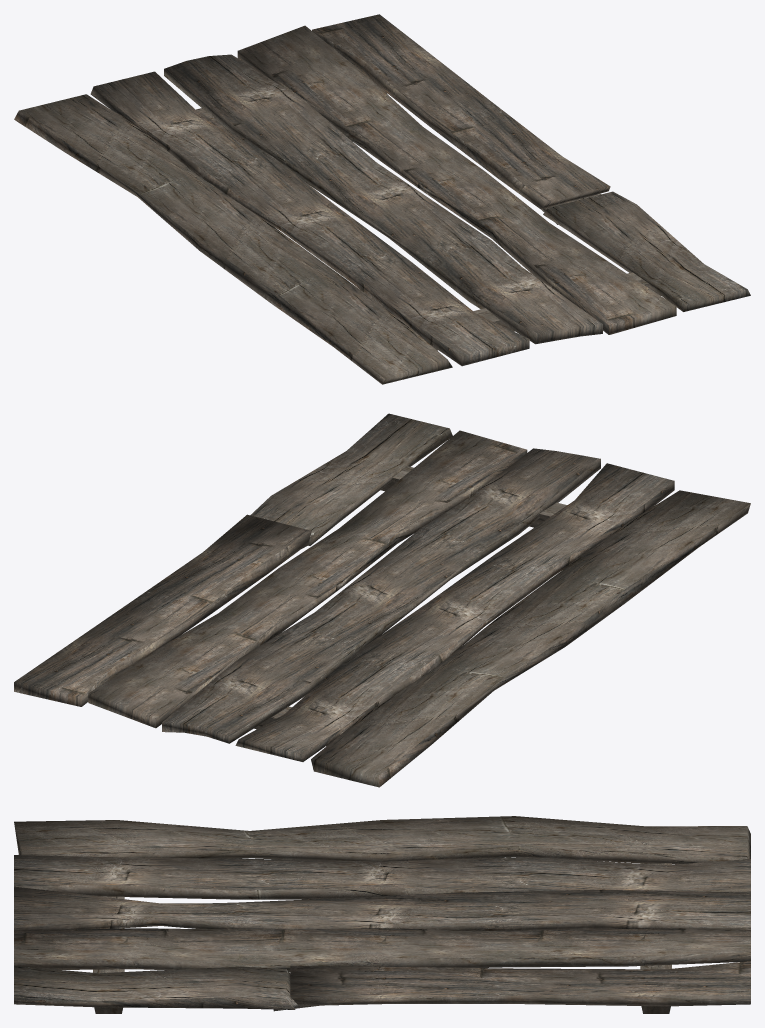
File: bar-table.glb
3 renders of one model, top to bottom at view 1: azimuth 30°, elevation 25°; view 2: azimuth 150°, elevation 25°; view 3: azimuth 270°, elevation 25°, orthographic.
Visible parts, largest first — view 1: table; view 2: table; view 3: table.
Boxes of the visible parts, left/top/right/bottom form: table: left=14, top=14, right=750, bottom=384; table: left=14, top=413, right=750, bottom=787; table: left=14, top=816, right=750, bottom=1013.
Size of the model in its own units: 70.08 by 6.33 by 122.
Materials: 1 (1 with a texture image).
